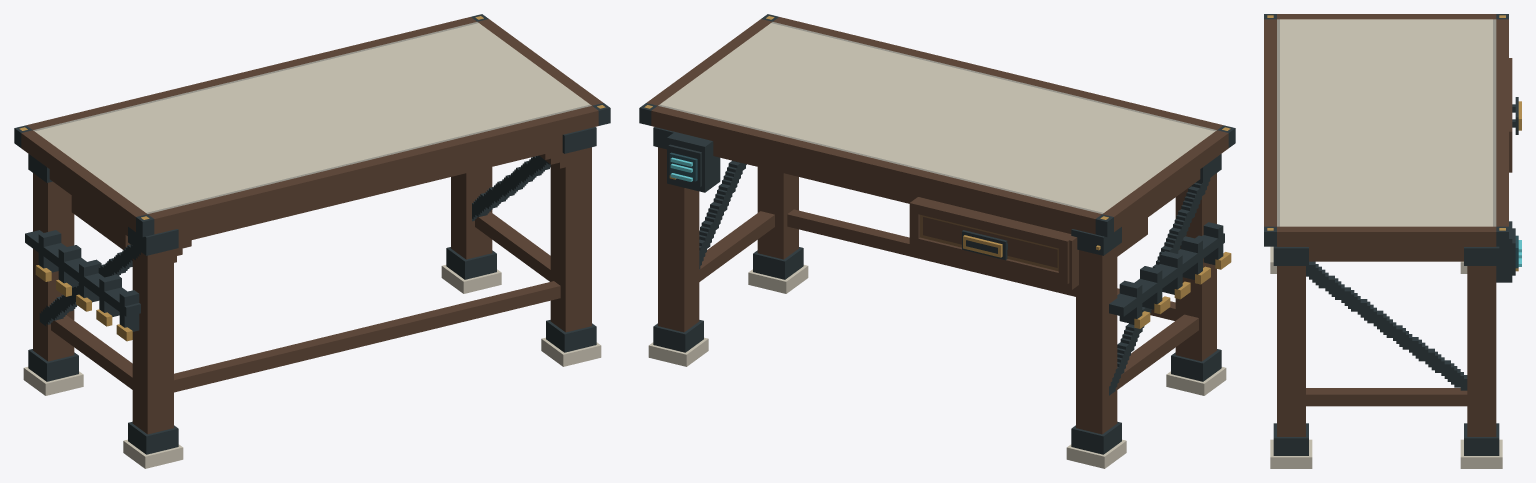
File: LIFE-032.glb
3 views of the same model, side by side, from view 1: azimuth 30°, elevation 25°; view 2: azimuth 150°, elevation 25°; view 3: azimuth 270°, elevation 25° (orthographic). The views are drawn at different scales.
Parts seen in each view (by area): view 1: 通用工作桌; view 2: 通用工作桌; view 3: 通用工作桌.
Boxes of the visible parts, x1,y1,x2,y2 form: 通用工作桌: (14,14,610,468); 通用工作桌: (639,14,1235,468); 通用工作桌: (1264,14,1521,468).
Size of the model in its own units: 1.62 by 0.82 by 0.8.
Materials: 8 (8 with a texture image).
